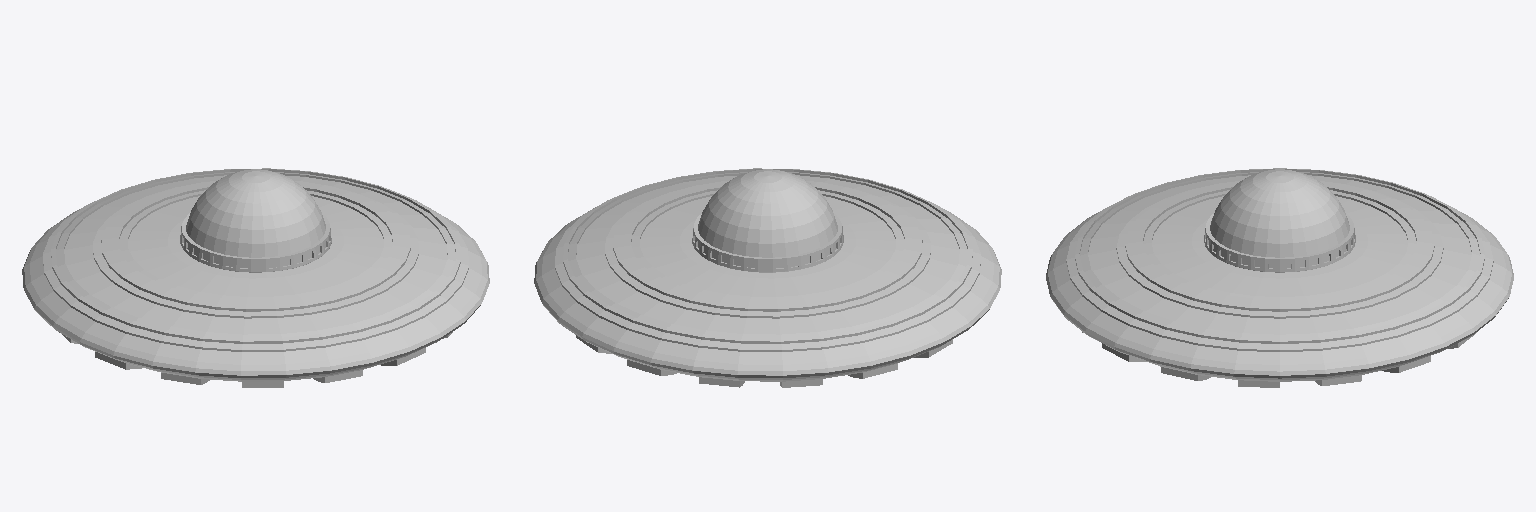
Rendered from UFO.obj.
3 views of the same model, side by side, from view 1: azimuth 30°, elevation 25°; view 2: azimuth 150°, elevation 25°; view 3: azimuth 270°, elevation 25° (orthographic).
Parts seen in each view (by area): view 1: Sphere; view 2: Sphere; view 3: Sphere.
Part boxes in pixels (left/top/right/bottom): Sphere: left=22, top=168, right=489, bottom=387; Sphere: left=534, top=168, right=1001, bottom=387; Sphere: left=1046, top=168, right=1513, bottom=387.
Bounding box in the file's own units: 6.56 × 2.47 × 6.56.